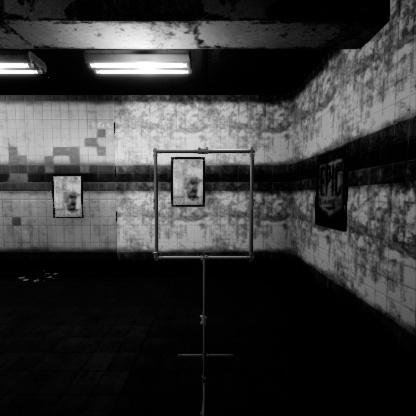gate: (154, 154, 264, 267)
